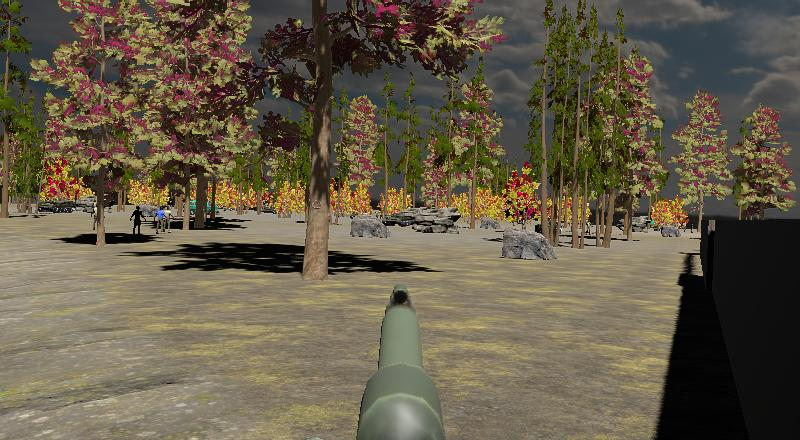Human: (156, 205, 172, 235), (153, 208, 162, 236)
